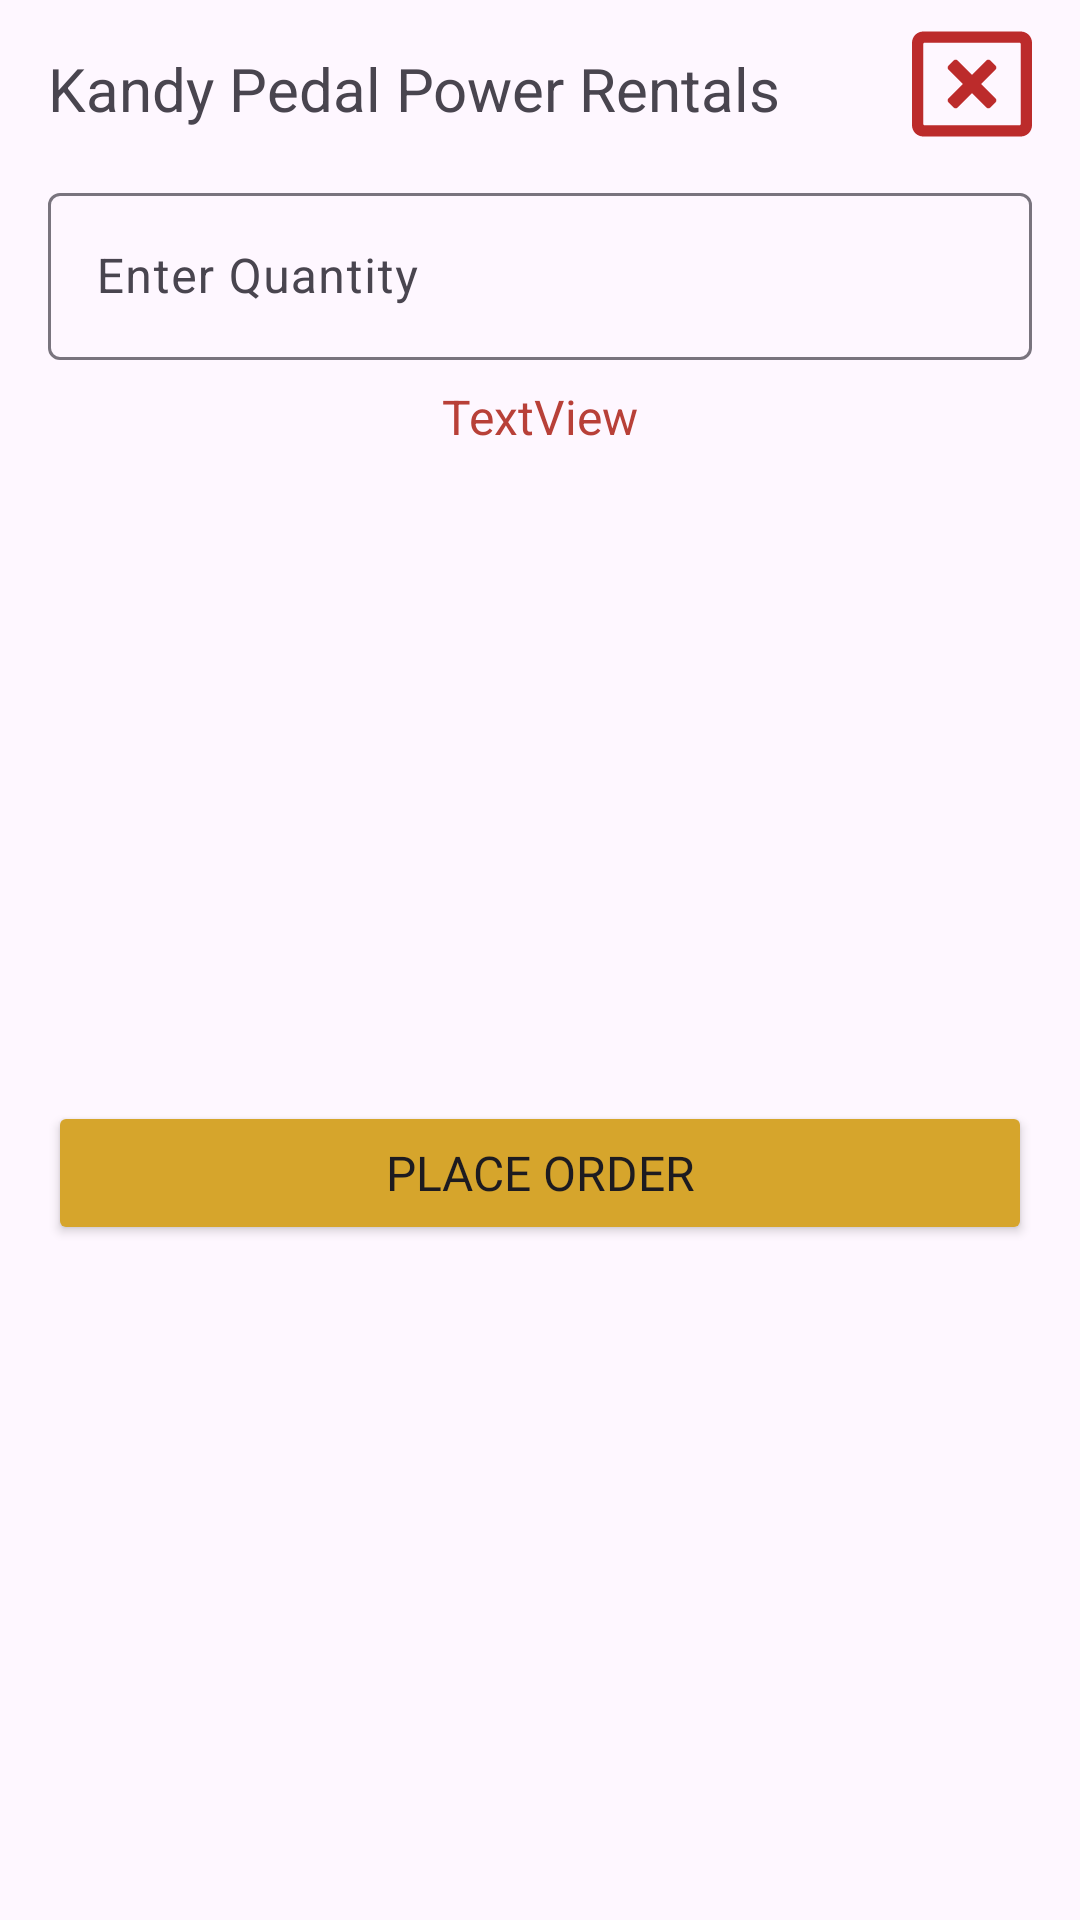

Where to tap for icons on this 1080px×1920px app screen, as point (x, y):
close: point (972, 84)
